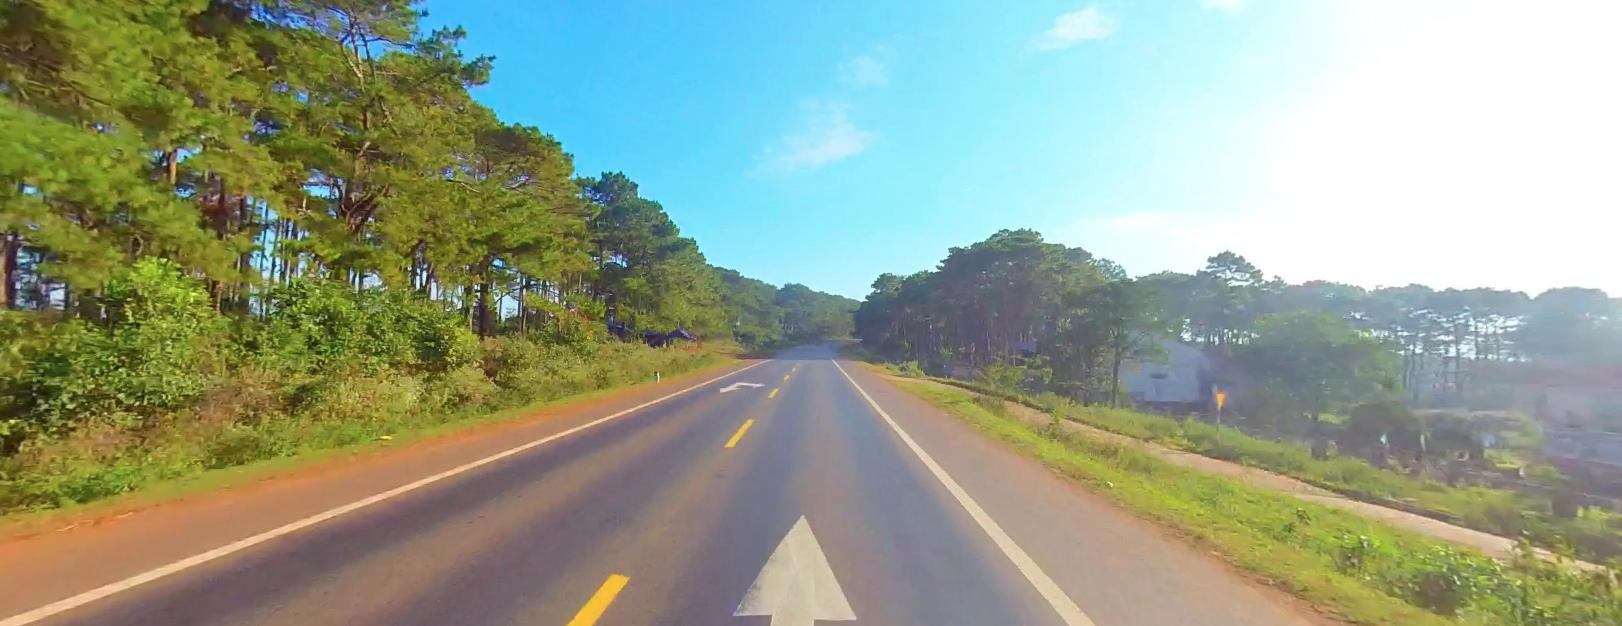Nguy hiem: (1215, 388, 1226, 406)
